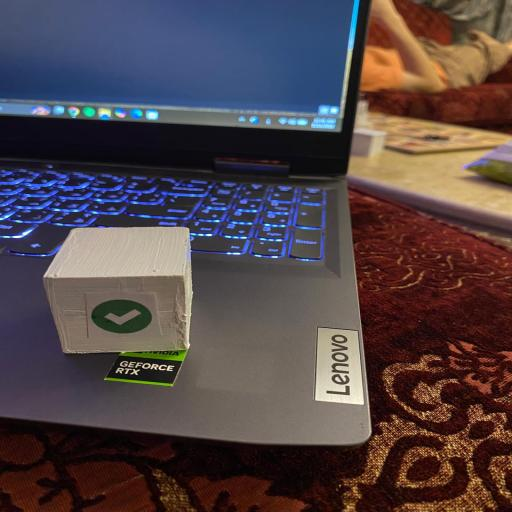Confirm: (43, 228, 193, 354)
